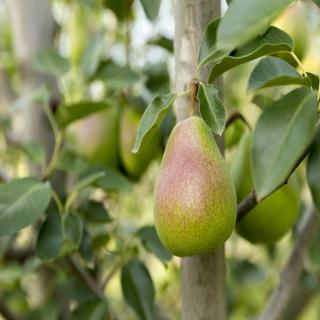Pear: (152, 115, 238, 258)
